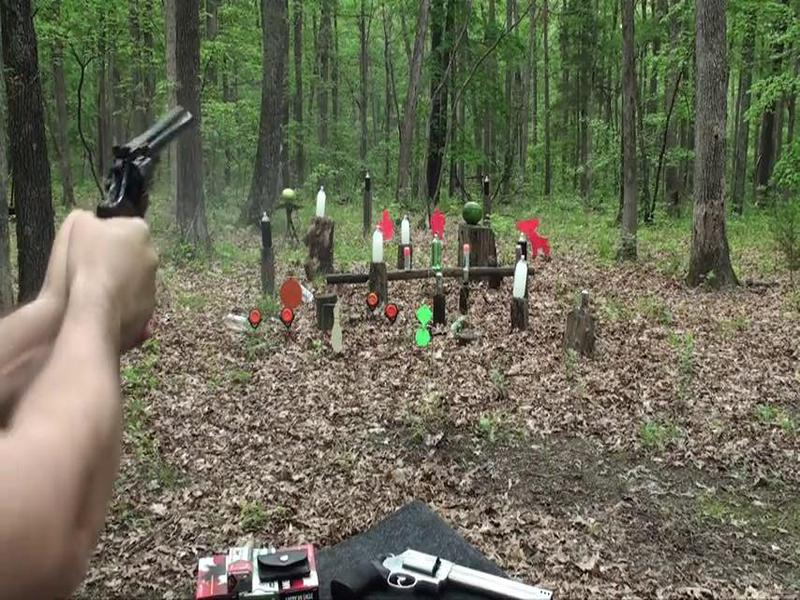Revolver: (80, 98, 213, 247)
